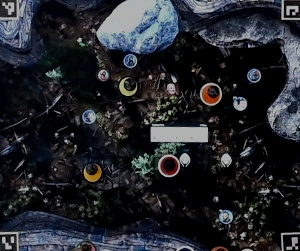lime_green_violet: (115, 73, 138, 96)
orange: (200, 83, 223, 106)
red: (157, 156, 180, 179)
yellow_night_blue: (80, 163, 103, 186)
